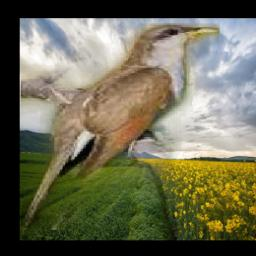Cuckoo: (21, 23, 220, 230)
